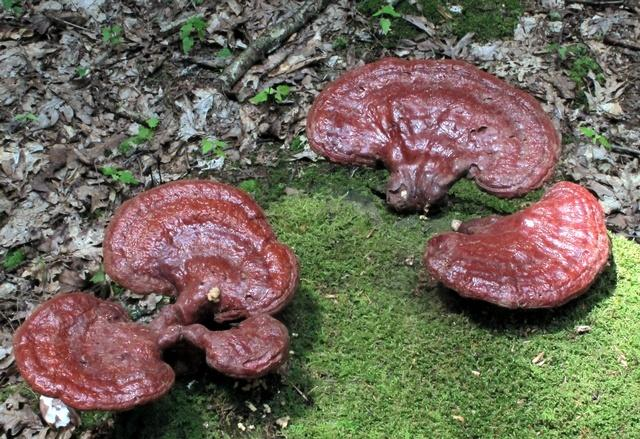Non-edible Mushroom: (10, 174, 288, 412), (304, 55, 562, 213), (422, 179, 611, 310)
